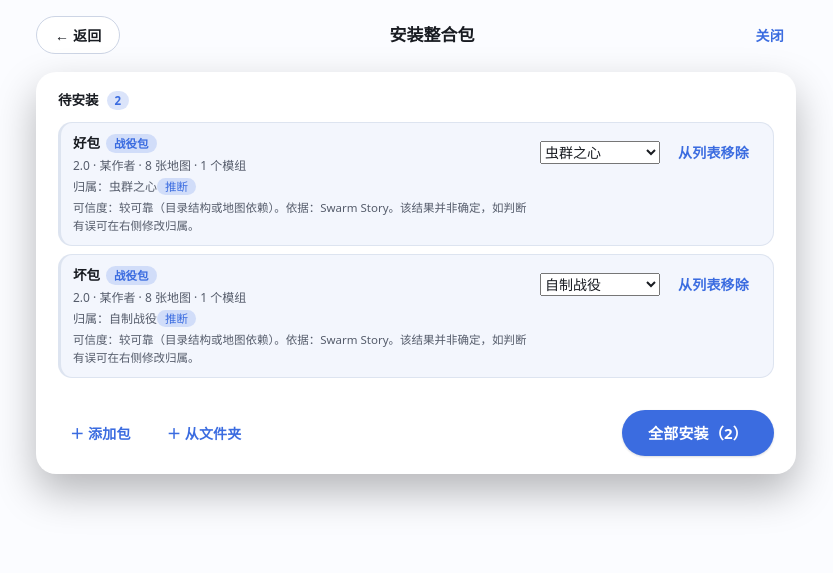
Test case: 批量安装 › 两个包：一个装上一个失败，成功的那个真的被装了，失败的记在它自己那行
Click the button "全部安装（2）" at (698,433), box left=622, top=410, right=774, bottom=456
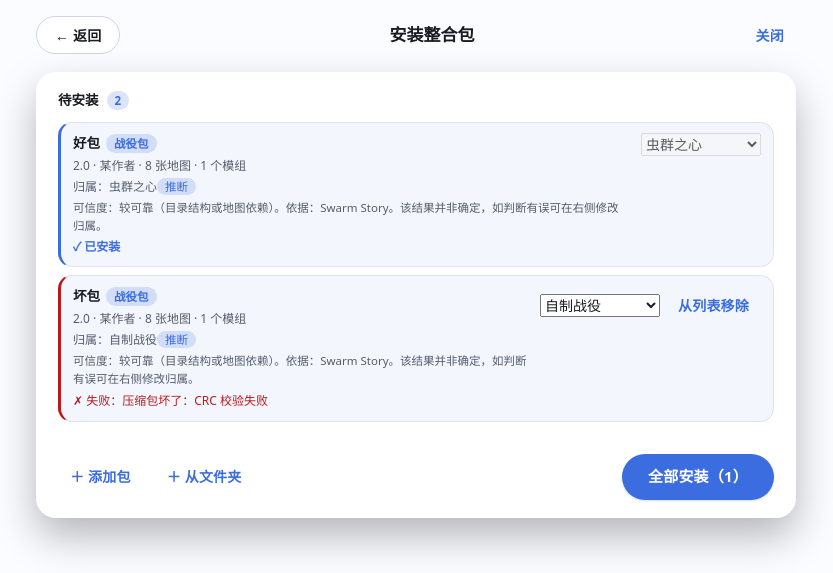
Result: the text "✓ 已安装" is shown at left=73, top=238, right=120, bottom=255
Result: the text "✗ 失败：压缩包坏了：CRC 校验失败" is shown at left=73, top=392, right=268, bottom=409
